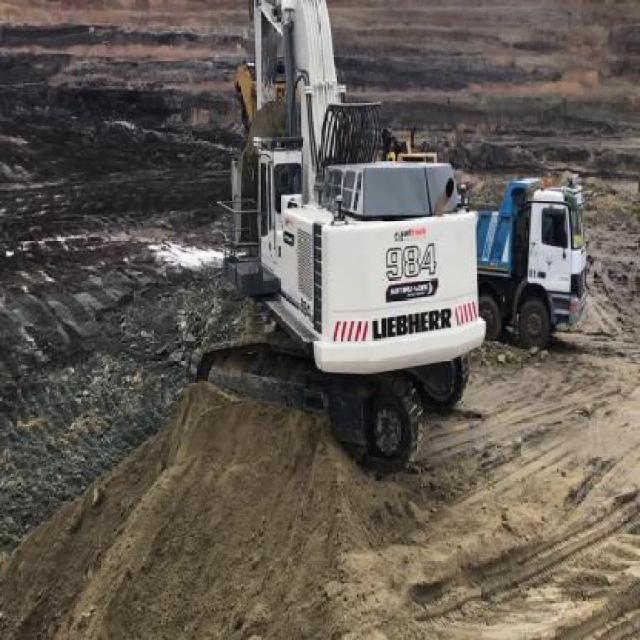Dump Truck: (476, 173, 586, 349)
Excavator: (194, 1, 486, 476)
